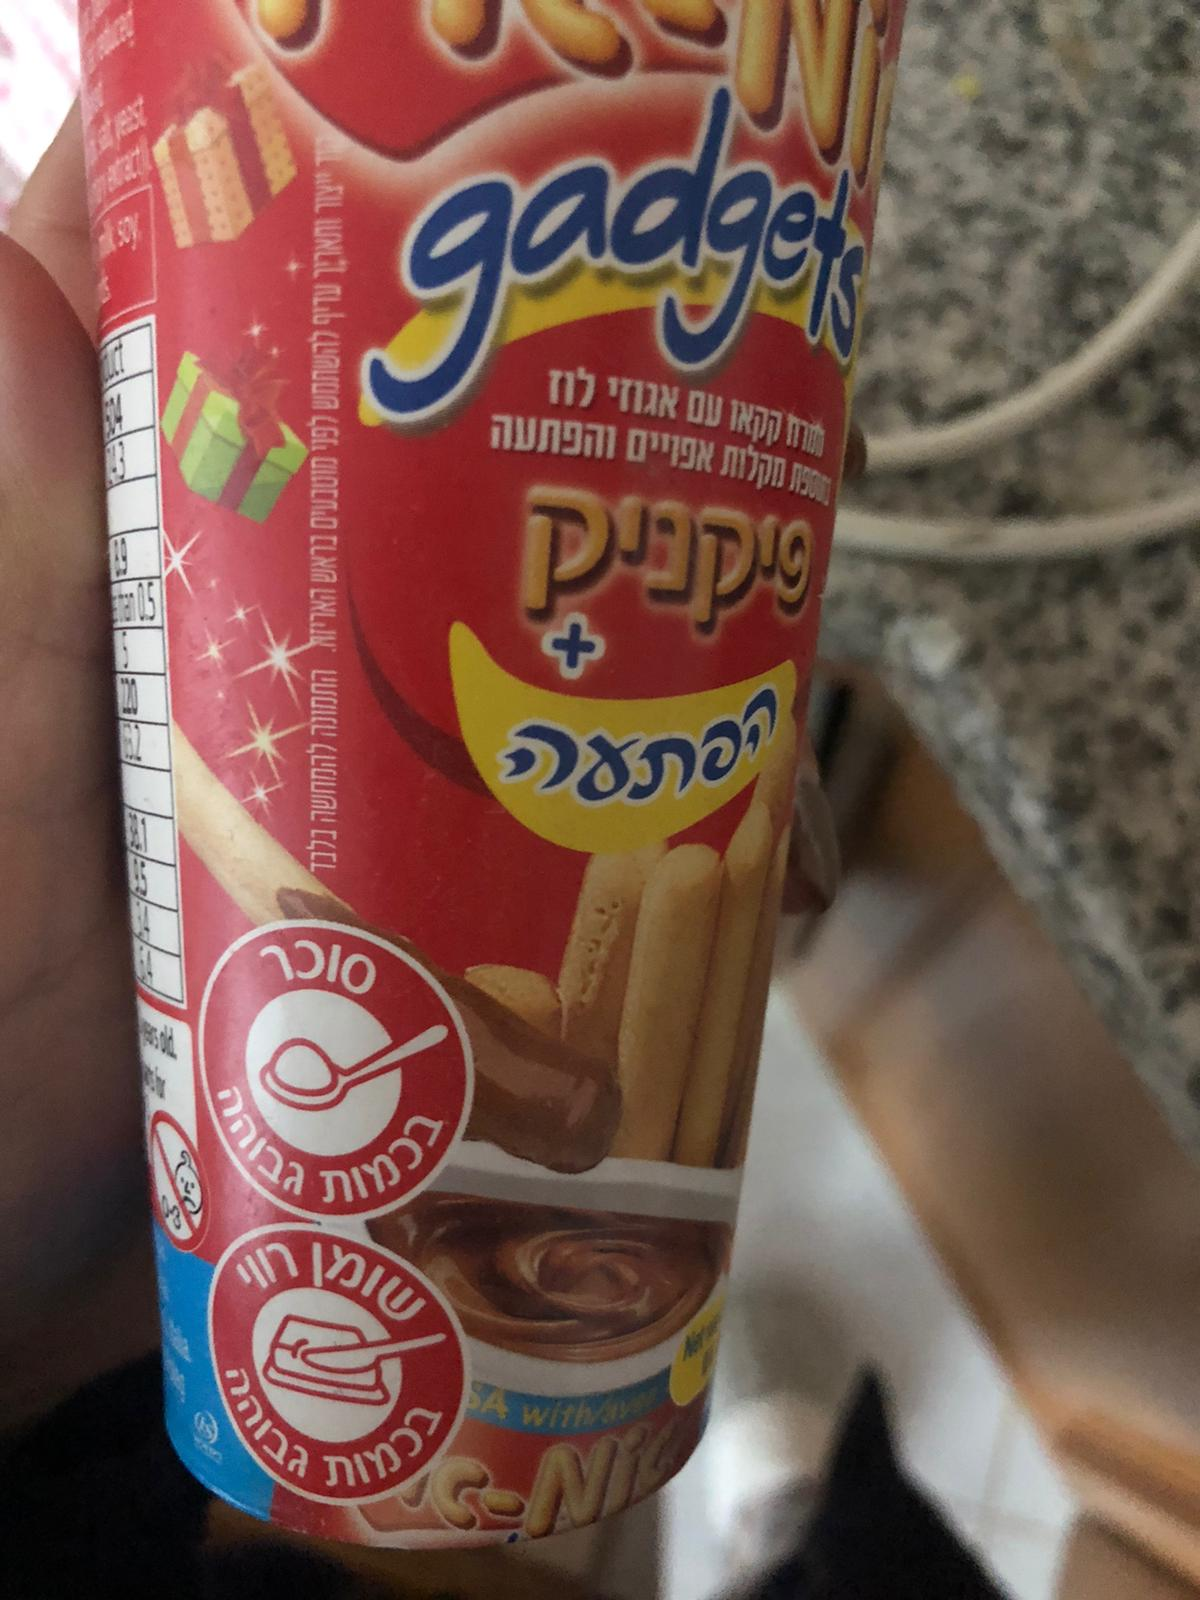fat: (205, 1225, 471, 1506)
sugar: (194, 916, 479, 1223)
